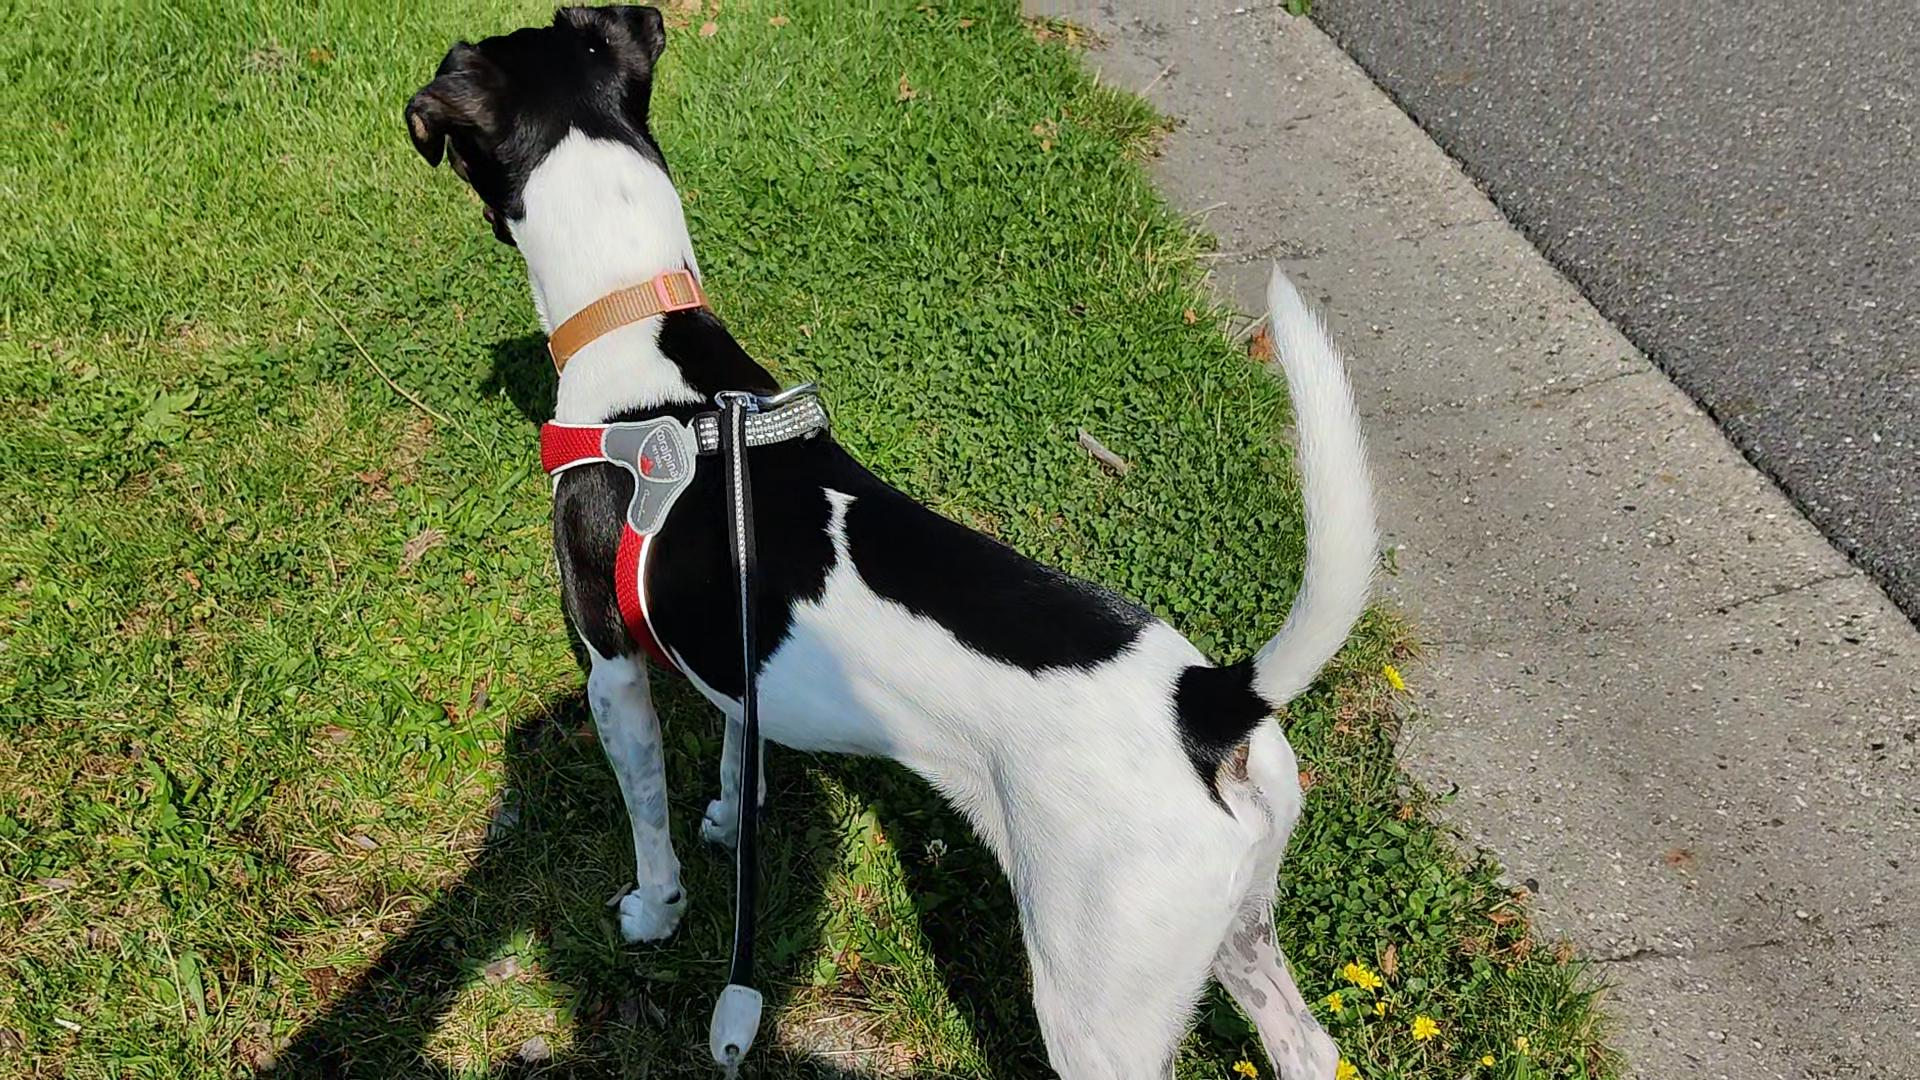Dog: (398, 0, 1385, 1079)
